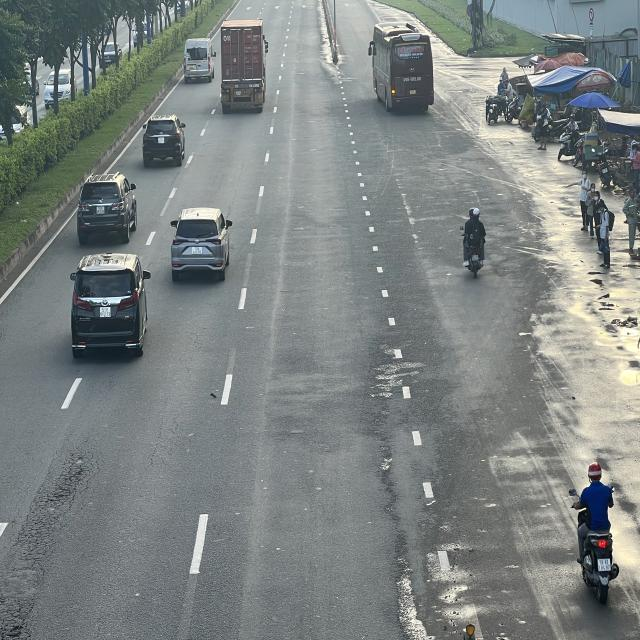car: (71, 254, 152, 356), (170, 206, 235, 277), (80, 173, 140, 244), (143, 115, 187, 167)
coach: (370, 18, 435, 114)
container: (219, 22, 269, 114)
van: (182, 38, 215, 85)
